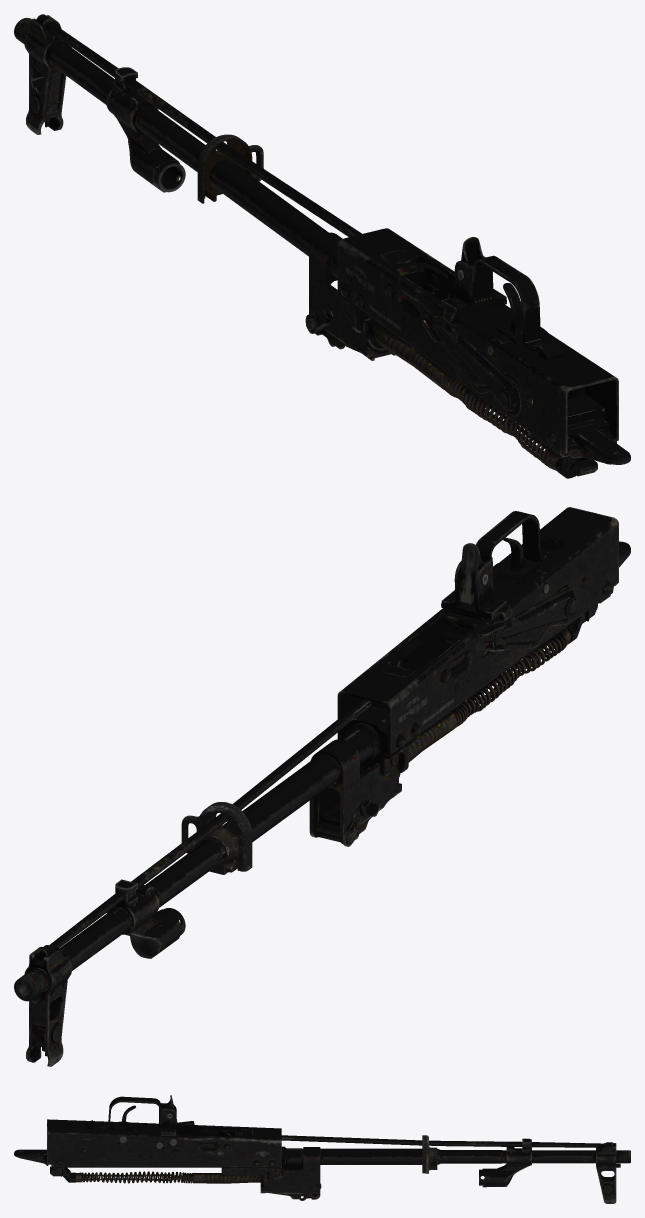
3 views of the same model, one above another, from view 1: azimuth 30°, elevation 25°; view 2: azimuth 150°, elevation 25°; view 3: azimuth 270°, elevation 25° (orthographic). The views are drawn at different scales.
Visible parts, largest first — view 1: TW_59e6152586f77473dc057aa1_PZ_Import; view 2: TW_59e6152586f77473dc057aa1_PZ_Import; view 3: TW_59e6152586f77473dc057aa1_PZ_Import.
Part boxes in pixels (x1,y1,x2,y2): TW_59e6152586f77473dc057aa1_PZ_Import: (14, 14, 630, 478); TW_59e6152586f77473dc057aa1_PZ_Import: (14, 507, 630, 1066); TW_59e6152586f77473dc057aa1_PZ_Import: (14, 1095, 630, 1203).
Bounding box in the file's own units: 0.0291 × 0.3894 × 0.0736.
Materials: 1 (1 with a texture image).
